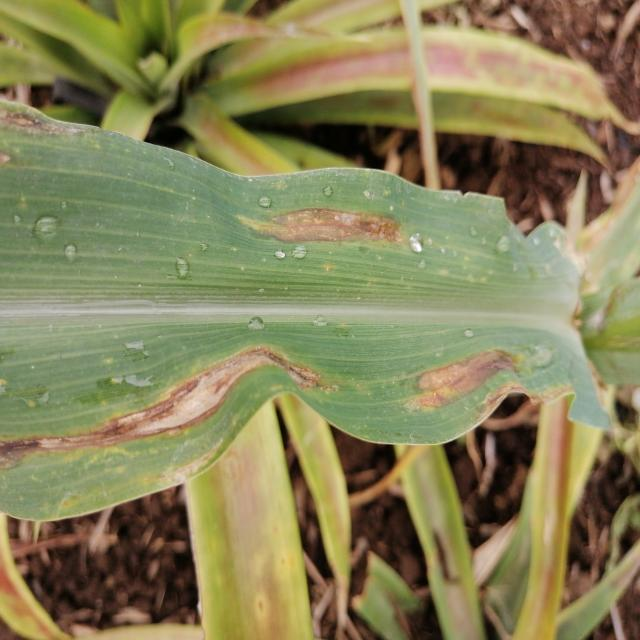Corn_Leaf_Blight: (0, 102, 603, 524)
